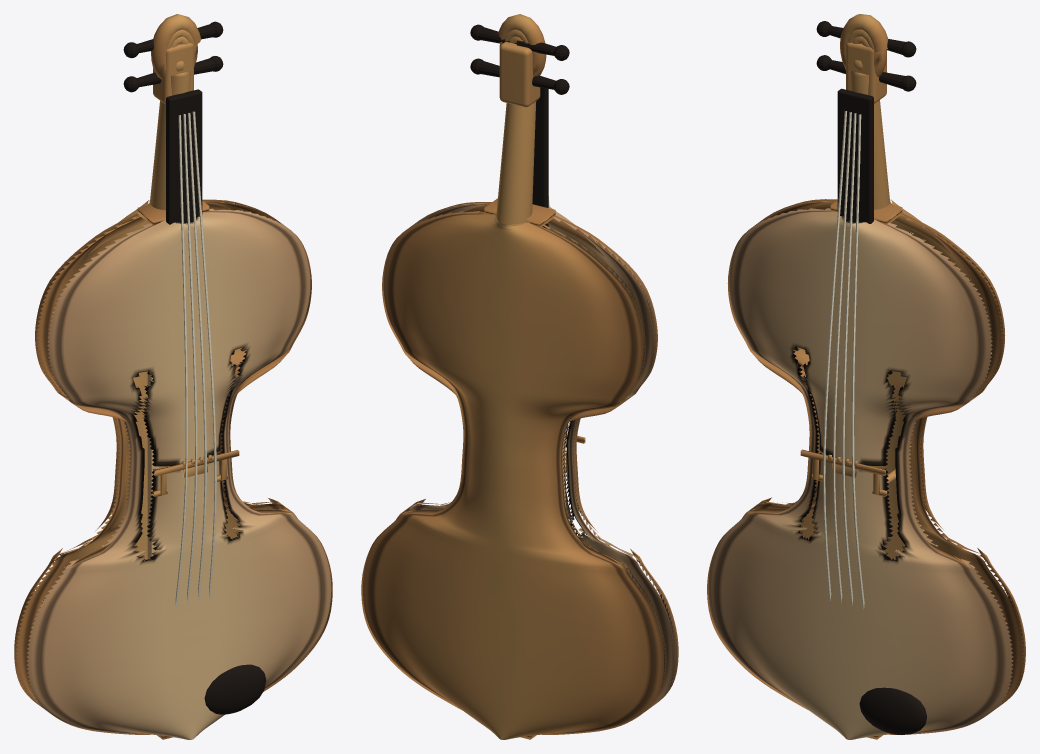
File: violin.glb
3 views of the same model, side by side, from view 1: azimuth 30°, elevation 25°; view 2: azimuth 150°, elevation 25°; view 3: azimuth 330°, elevation 25° (orthographic).
Parts seen in each view (by area): view 1: belly, back, strings, ribs, fingerboard, neck, chinrest, scroll, pegs, bridge, bass_bar; view 2: back, belly, neck, ribs, pegs, fingerboard, scroll; view 3: belly, back, strings, ribs, fingerboard, neck, chinrest, scroll, pegs, bridge.
Boxes of the visible parts, x1,y1,x2,y2 form: belly: (26,208,331,739); back: (16,200,284,708); strings: (175,111,216,609); ribs: (14,199,332,739); fingerboard: (166,89,202,224); neck: (149,43,193,210); chinrest: (204,664,266,714); scroll: (151,14,201,79); pegs: (123,21,223,92); bridge: (152,450,239,496); bass_bar: (147,371,158,559); back: (363,211,666,739); belly: (408,203,676,708); neck: (495,42,540,226); ribs: (361,198,678,739); pegs: (470,24,569,94); fingerboard: (532,87,548,228); scroll: (498,14,546,76); belly: (708,208,1013,739); back: (755,199,1024,708); strings: (823,111,864,609); ribs: (707,199,1025,739); fingerboard: (837,88,873,223); neck: (846,42,890,209); chinrest: (859,687,926,734); scroll: (840,14,888,76); pegs: (816,21,916,91); bridge: (800,449,887,496).
Size of the model in its own units: 1.3 by 2.94 by 0.3604.
